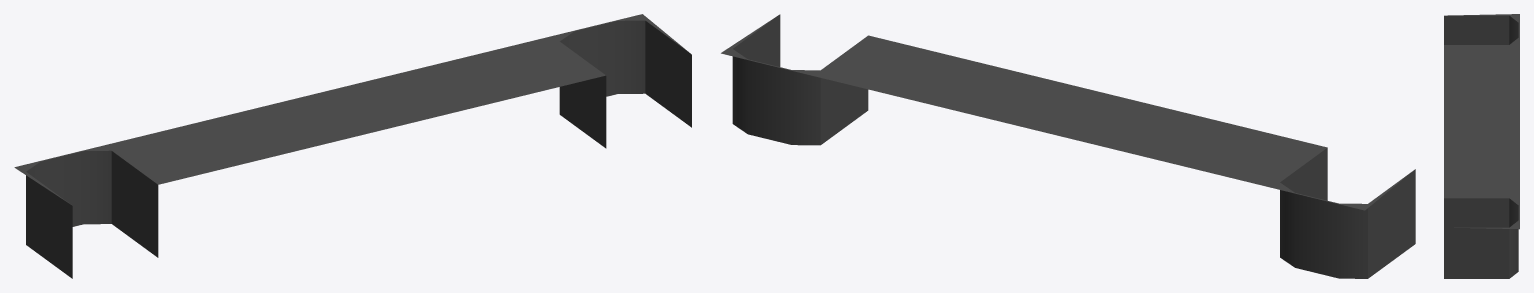
File: Trena_Elevator_Fill.fbx
3 renders of one model, left to right at view 1: azimuth 30°, elevation 25°; view 2: azimuth 150°, elevation 25°; view 3: azimuth 270°, elevation 25°, orthographic. The views are drawn at different scales.
Parts seen in each view (by area): view 1: Trena_Elevator_Fill; view 2: Trena_Elevator_Fill; view 3: Trena_Elevator_Fill.
Boxes of the visible parts, x1=… form: Trena_Elevator_Fill: x1=14, y1=14, x2=691, y2=278; Trena_Elevator_Fill: x1=721, y1=14, x2=1415, y2=278; Trena_Elevator_Fill: x1=1444, y1=14, x2=1519, y2=278.
Bounding box in the file's own units: 106 × 11.8 × 15.77.
